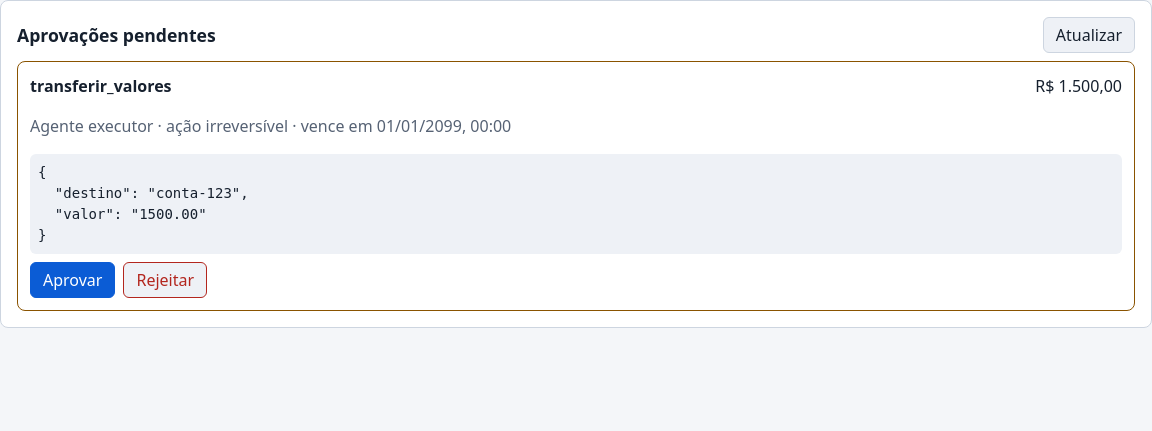
Test case: InboxPanel › não permite envio duplo: um só POST mesmo com cliques repetidos
Later steps or results of the test are not shown.
Click the button "Aprovar": coordinates (73, 280) [30,262,115,298]
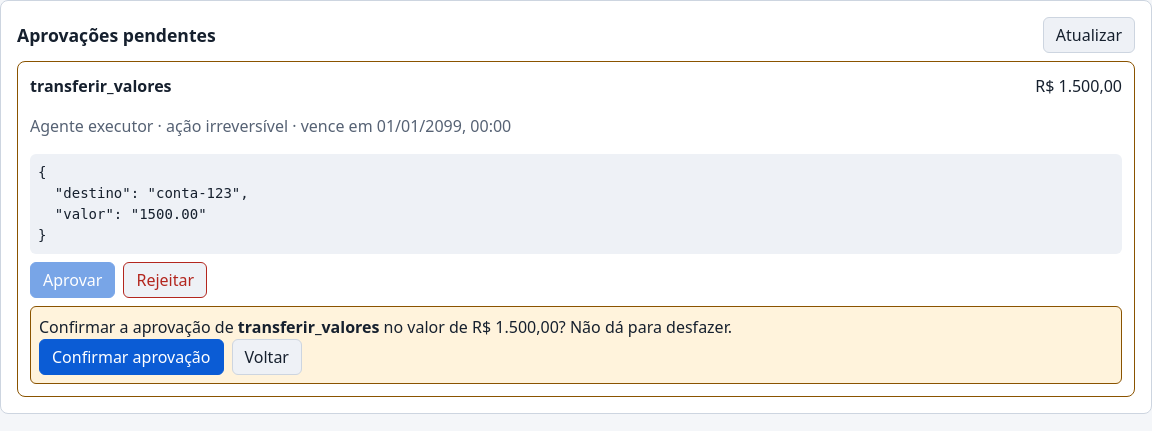
Click the button "Confirmar aprovação": coordinates (131, 357) [39,339,224,375]
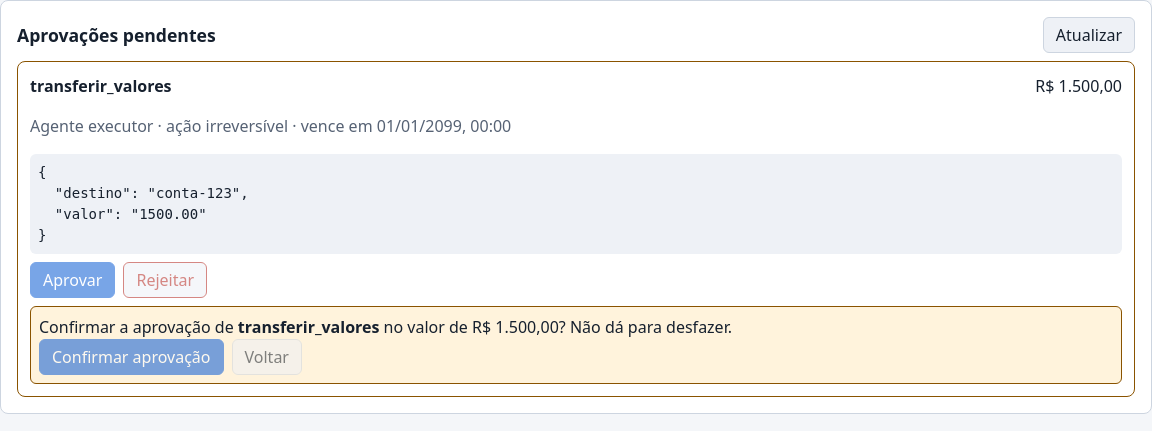
Check: the button "Confirmar aprovação" is disabled
Click the button "Confirmar aprovação": coordinates (131, 357) [39,339,224,375]
Click the button "Confirmar aprovação": coordinates (131, 357) [39,339,224,375]
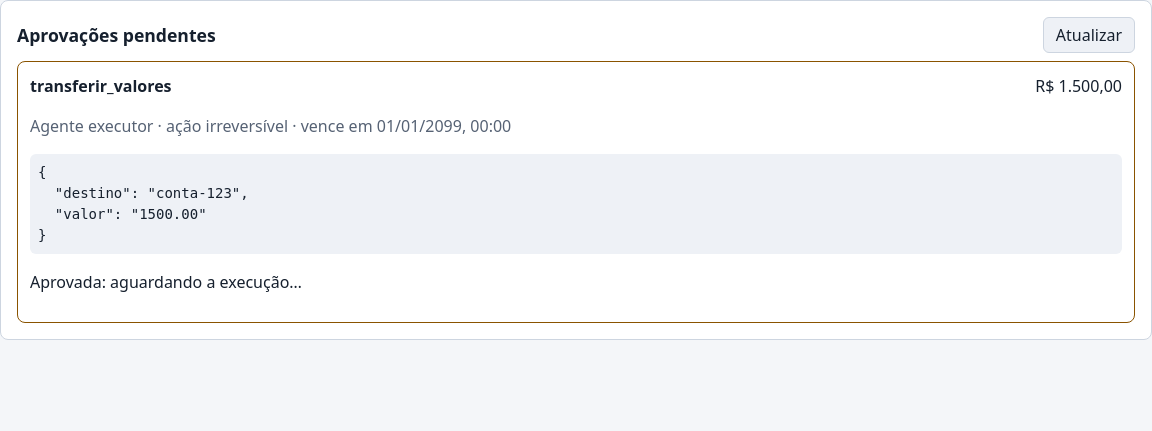
Check: the text "Aprovada: aguardando a execução…" is shown, box [30,271,302,293]
